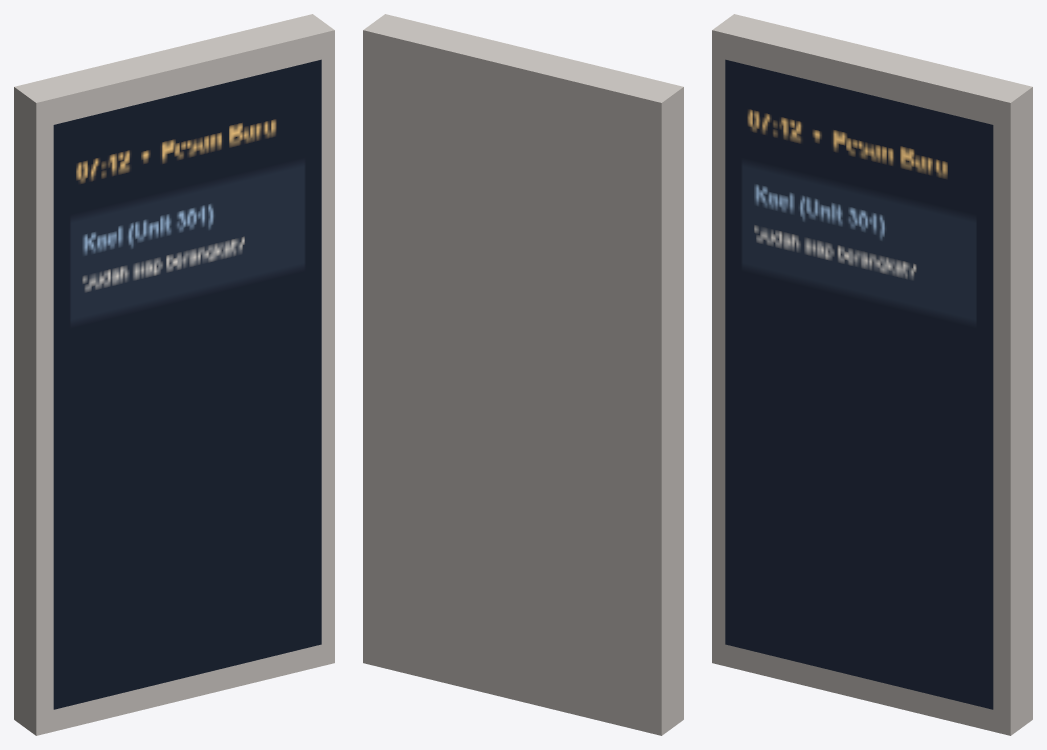
The model's file is ch5_prop_smartphone.glb.
The picture shows the model from 3 angles, left to right: view 1: azimuth 30°, elevation 25°; view 2: azimuth 150°, elevation 25°; view 3: azimuth 330°, elevation 25°; orthographic projection.
Visible parts, largest first — view 1: Screen_UI_Surface, Phone_Body; view 2: Phone_Body; view 3: Screen_UI_Surface, Phone_Body.
Part boxes in pixels (<box>): Screen_UI_Surface: <box>53,59,321,709</box>; Phone_Body: <box>14,14,334,735</box>; Phone_Body: <box>363,14,683,735</box>; Screen_UI_Surface: <box>725,59,993,709</box>; Phone_Body: <box>712,14,1032,735</box>.
Bounding box in the file's own units: 0.078 × 0.158 × 0.011.
2 materials, 1 textured.
